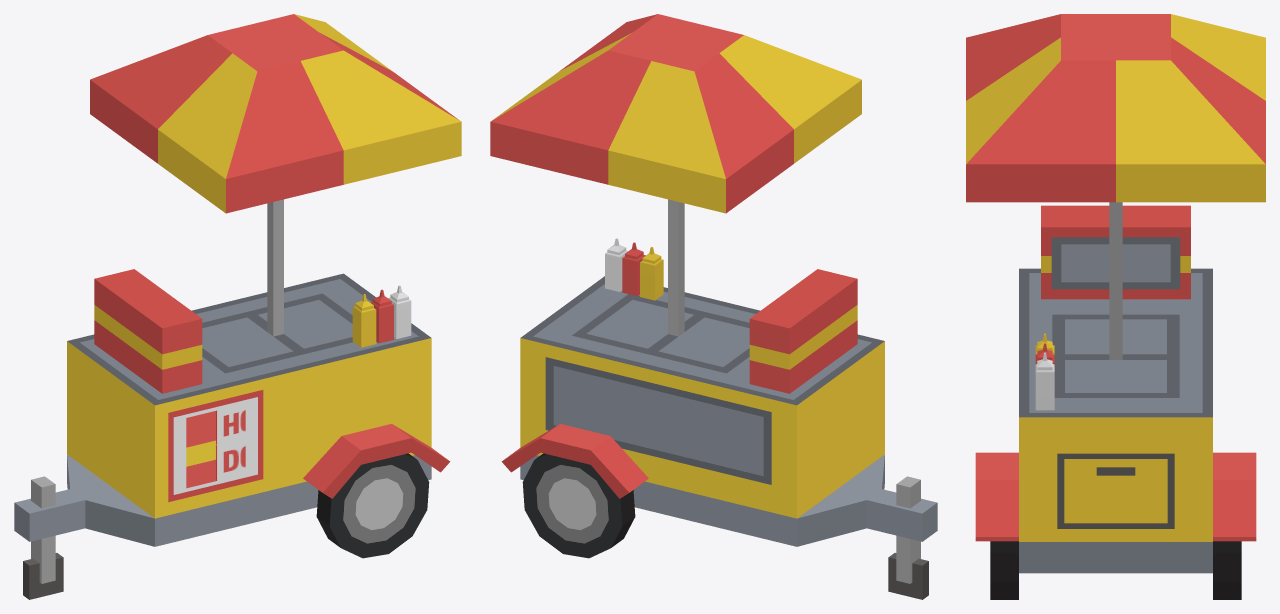
File: HotDogKiosk.glb
3 views of the same model, side by side, from view 1: azimuth 30°, elevation 25°; view 2: azimuth 150°, elevation 25°; view 3: azimuth 270°, elevation 25° (orthographic). The views are drawn at different scales.
Parts seen in each view (by area): view 1: SI_Prop_Hotdog_Kiosk; view 2: SI_Prop_Hotdog_Kiosk; view 3: SI_Prop_Hotdog_Kiosk.
Part boxes in pixels (x1,y1,x2,y2): SI_Prop_Hotdog_Kiosk: (14, 14, 461, 599); SI_Prop_Hotdog_Kiosk: (490, 14, 937, 599); SI_Prop_Hotdog_Kiosk: (966, 14, 1265, 599).
Size of the model in its own units: 0.029 by 0.0369 by 0.0184.
Materials: 1 (1 with a texture image).
